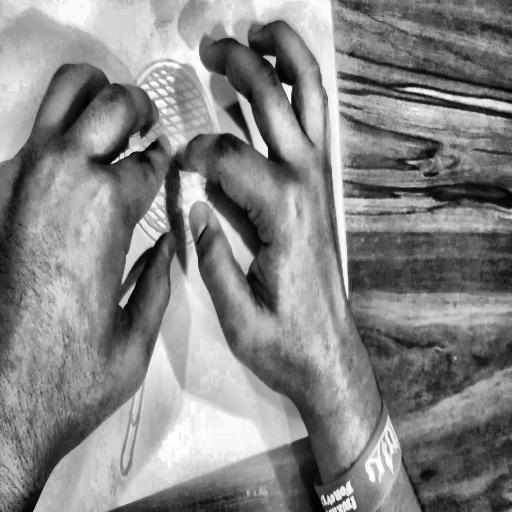badminton: (73, 41, 306, 499), (350, 407, 359, 426)
